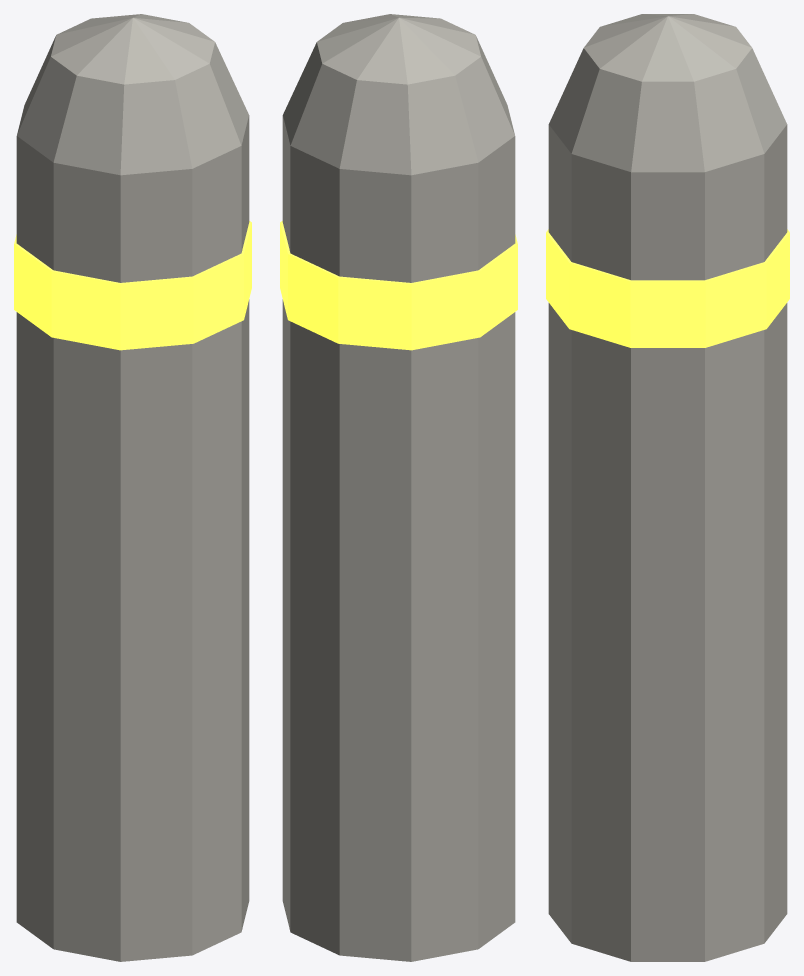
Rendered from PD_Bollard.fbx.
3 renders of one model, left to right at view 1: azimuth 30°, elevation 25°; view 2: azimuth 150°, elevation 25°; view 3: azimuth 270°, elevation 25°, orthographic.
Visible parts, largest first — view 1: PD_Bollard_Mesh; view 2: PD_Bollard_Mesh; view 3: PD_Bollard_Mesh.
Part boxes in pixels (x1=…): PD_Bollard_Mesh: x1=14, y1=14, x2=251, y2=961; PD_Bollard_Mesh: x1=280, y1=14, x2=517, y2=961; PD_Bollard_Mesh: x1=546, y1=14, x2=789, y2=961.
Bounding box in the file's own units: 0.253 × 1.08 × 0.266.
